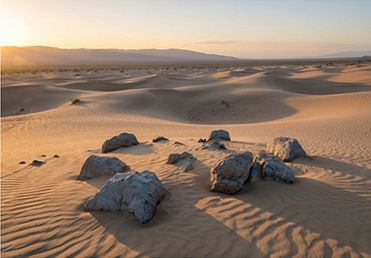rocks: (77, 155, 164, 223), (211, 137, 307, 193), (102, 133, 138, 152), (165, 151, 196, 171), (201, 129, 230, 149)
